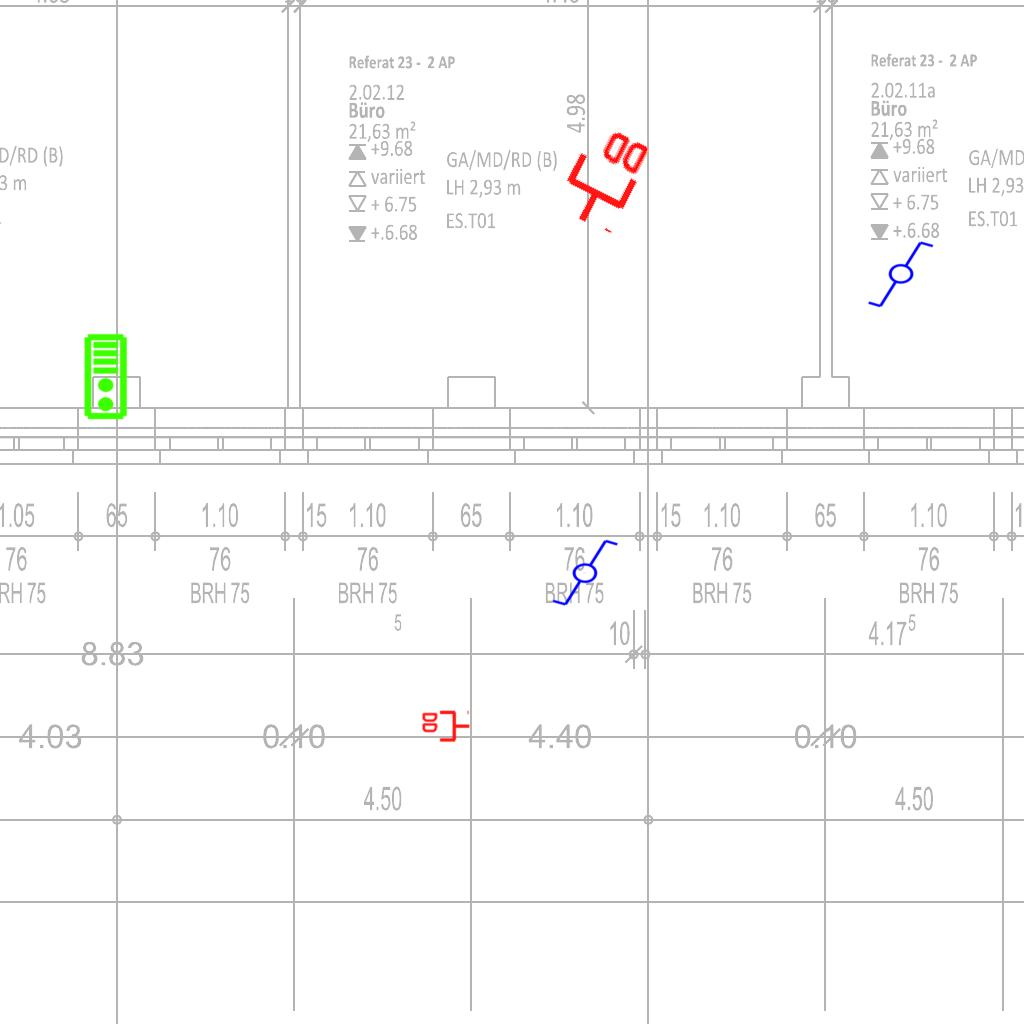Datenanschluss_zweifach: (548, 114, 657, 239), (420, 710, 471, 744)
Gegensprechanlage_mit_Video: (83, 333, 130, 421)
Wechselschalter: (542, 536, 620, 608), (866, 239, 944, 311)
